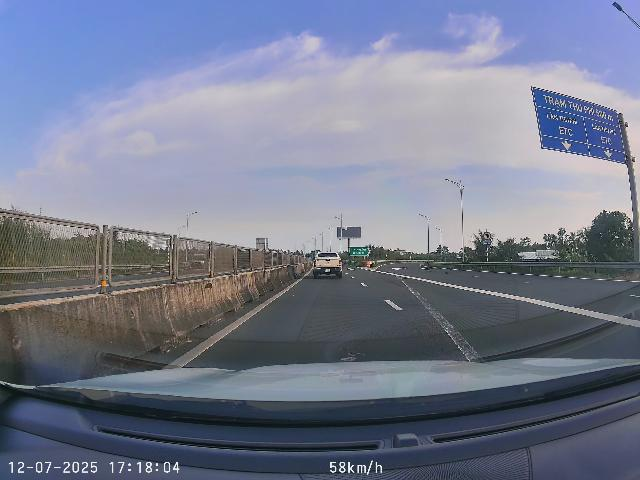127-toc-do-toi-da-70: (483, 231, 491, 240)
